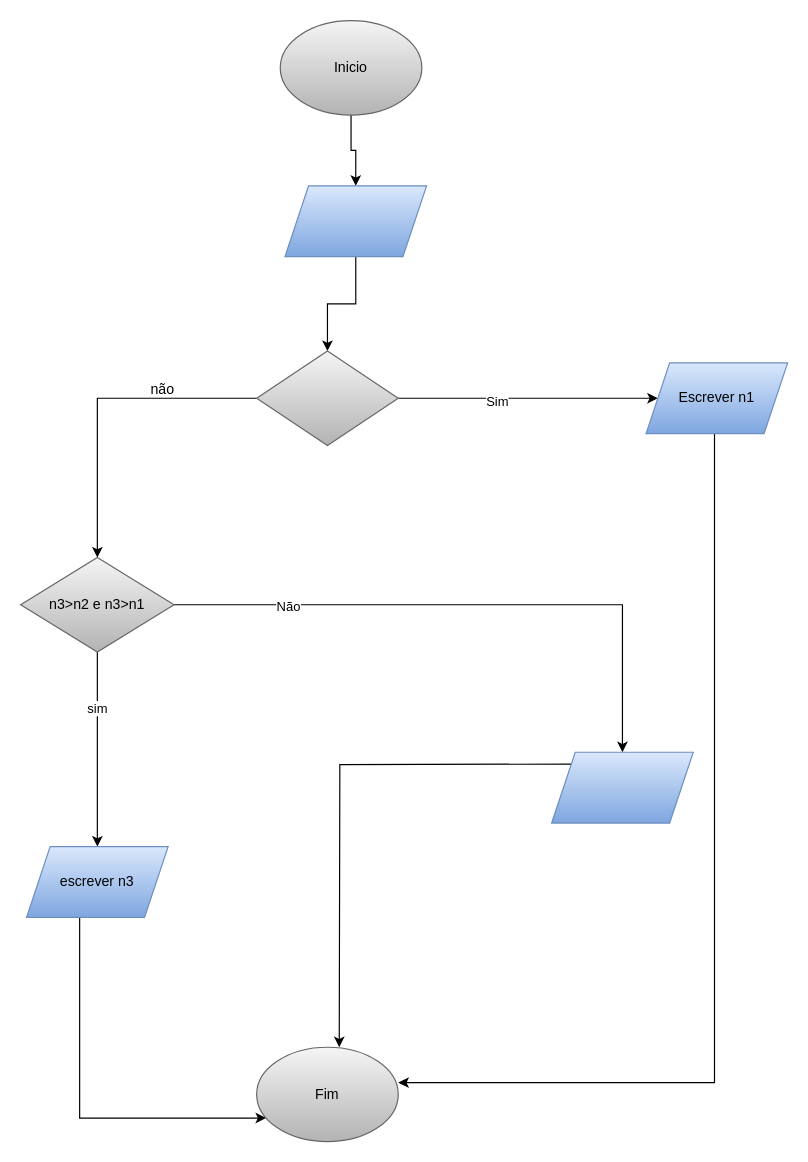
Some shapes in this 808 by 1162 pixel diagram are drawn without their labels. The centre of each missing label's shape, as x and y in pixels:
"escrever n2" goes at point (621, 787).
"Ler n1,n2,n3" goes at point (355, 221).
"n1>n2 e n1>n3" goes at point (326, 397).
